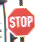stopsign: (7, 7, 35, 37)
